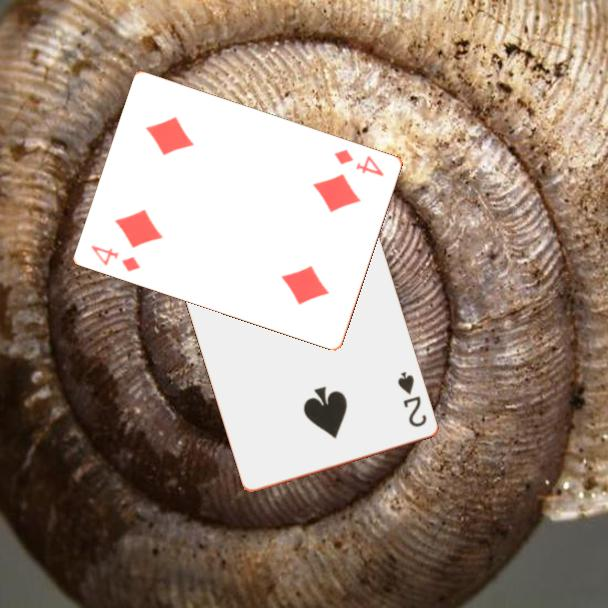d04: (331, 145, 387, 179), (88, 241, 144, 275)
s02: (394, 368, 430, 430)
